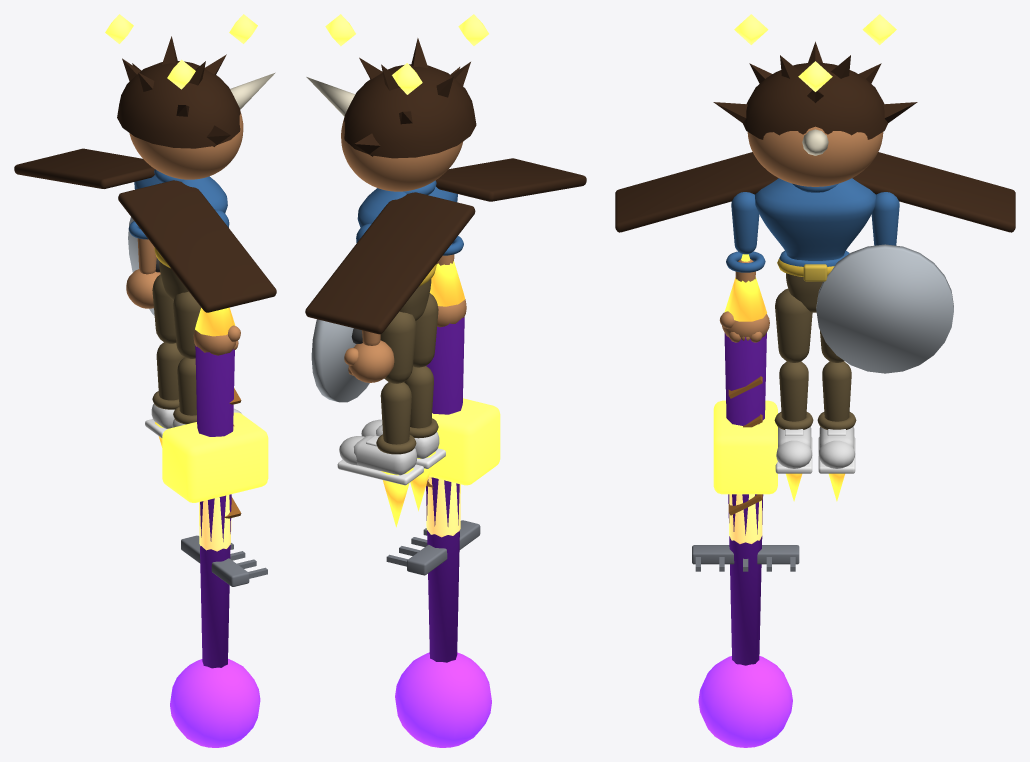
Rendered from feral.glb.
3 views of the same model, side by side, from view 1: azimuth 30°, elevation 25°; view 2: azimuth 150°, elevation 25°; view 3: azimuth 270°, elevation 25° (orthographic). The views are drawn at different scales.
Parts seen in each view (by area): view 1: wing0, hairCap, hammerHead, shadowArm, shadowFist, wing1, skull, thigh, baguette, calf.001, thigh.001, rakeHead (+11 smaller); view 2: wing1, hairCap, shadowFist, shadowArm, hammerHead, wing0, skull, prop:lid, calf.001, thigh.001, baguette, palm.001 (+16 smaller); view 3: prop:lid, hairCap, shadowArm, torso, shadowFist, wing0, wing1, skull, hammerHead, thigh, calf, calf.001 (+8 smaller).
Boxes of the visible parts, box(x1,y1,x2,y2) form: wing0: box(118, 180, 276, 312); hairCap: box(117, 61, 240, 148); hammerHead: box(162, 412, 268, 502); shadowArm: box(195, 345, 234, 668); shadowFist: box(170, 659, 260, 747); wing1: box(14, 148, 154, 188); skull: box(129, 111, 243, 179); thigh: box(173, 291, 201, 358); baguette: box(199, 495, 231, 551); calf.001: box(156, 342, 184, 400); thigh.001: box(152, 274, 176, 343); rakeHead: box(181, 535, 249, 586); wing1: box(305, 192, 475, 334); hairCap: box(344, 64, 476, 158); shadowFist: box(395, 652, 491, 747); shadowArm: box(426, 317, 464, 662); hammerHead: box(429, 398, 500, 485); wing0: box(436, 158, 586, 201); skull: box(341, 118, 463, 191); prop:lid: box(311, 319, 369, 402); calf.001: box(380, 382, 411, 444); thigh.001: box(380, 311, 416, 383); baguette: box(426, 476, 460, 537); palm.001: box(348, 340, 394, 382); prop:lid: box(816, 244, 953, 373); hairCap: box(742, 62, 888, 139); shadowArm: box(724, 333, 766, 665); torso: box(755, 178, 875, 260); shadowFist: box(698, 656, 792, 747); wing0: box(615, 152, 778, 232); wing1: box(852, 152, 1015, 232); skull: box(747, 126, 883, 186); hammerHead: box(713, 400, 777, 494); thigh: box(775, 288, 812, 362); calf: box(779, 361, 808, 421); calf.001: box(822, 361, 851, 421).
Size of the model in its own units: 0.9259 by 3.67 by 1.86.
